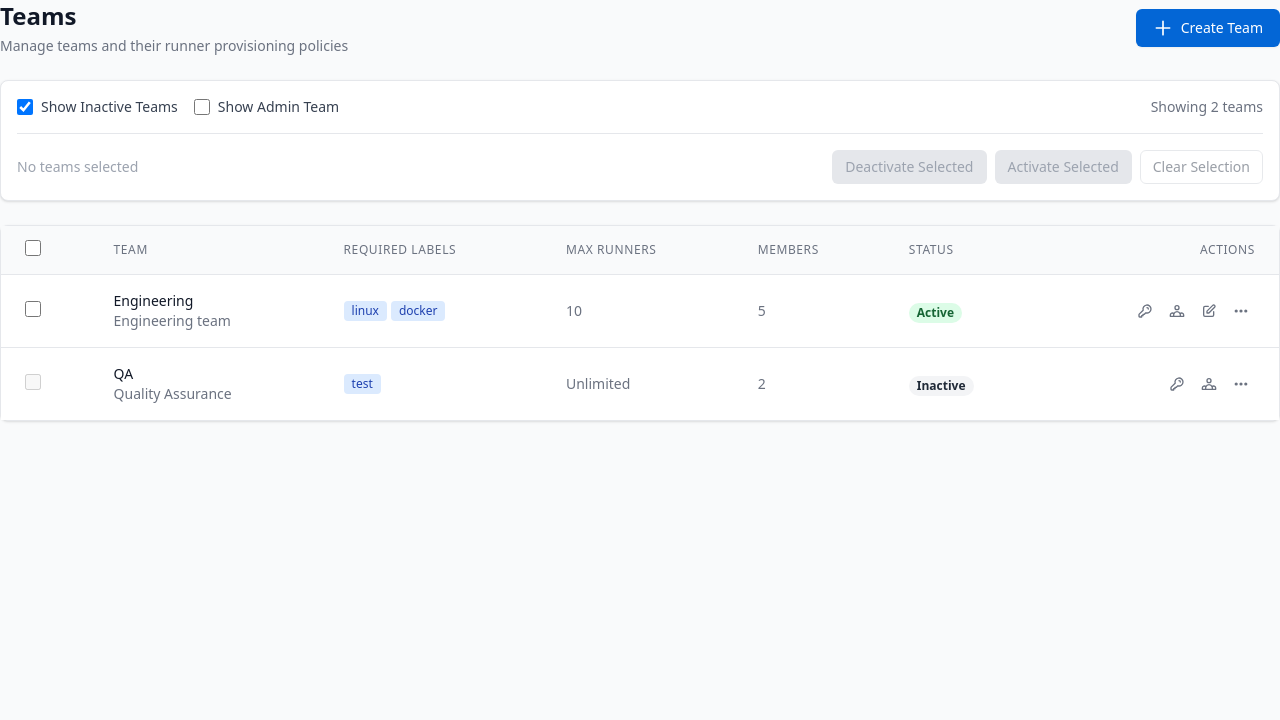
Teams › opens edit modal when Edit icon button is clicked for an active team
This screenshot has width=1280, height=720.
expect the text "Engineering" is shown: met, box 114,291 -> 193,310
Click the button named "edit team". click: (1209, 311)
box: 1195,297 -> 1223,325
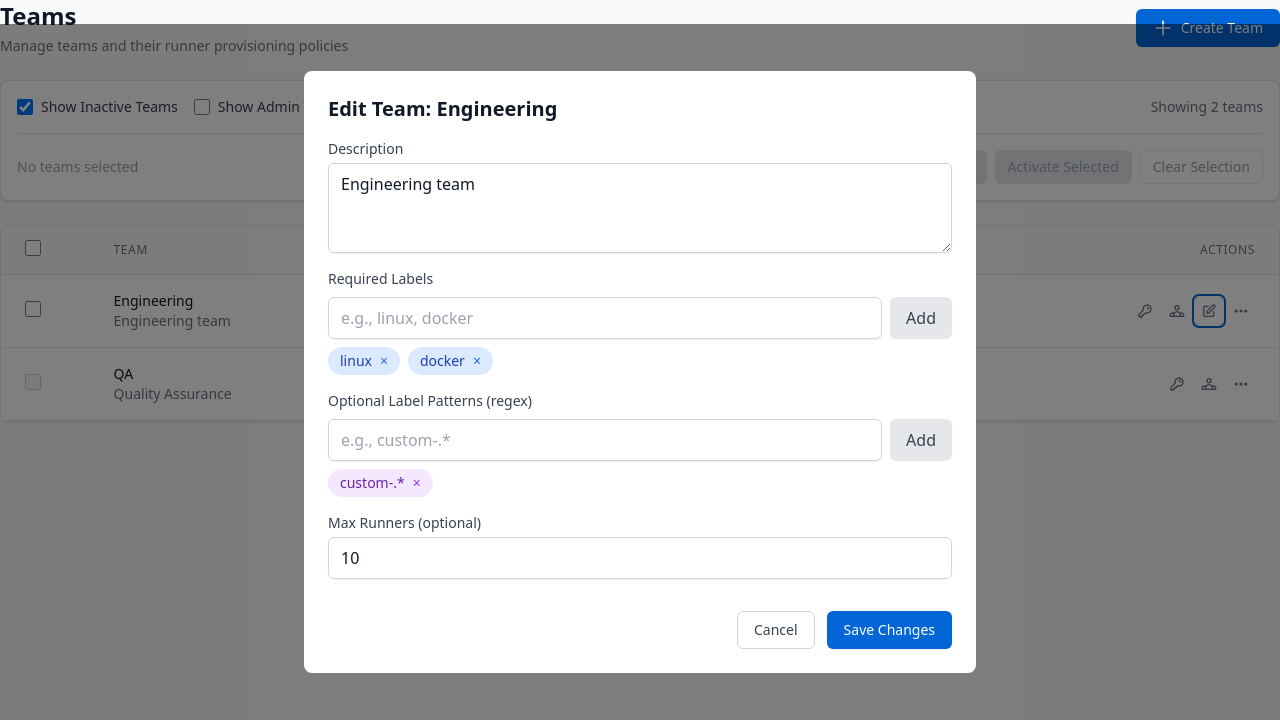
expect the heading "Edit Team: Engineering" is shown: met, box 328,95 -> 557,122
expect the text box showing "Engineering team" is shown: met, box 328,163 -> 952,253
